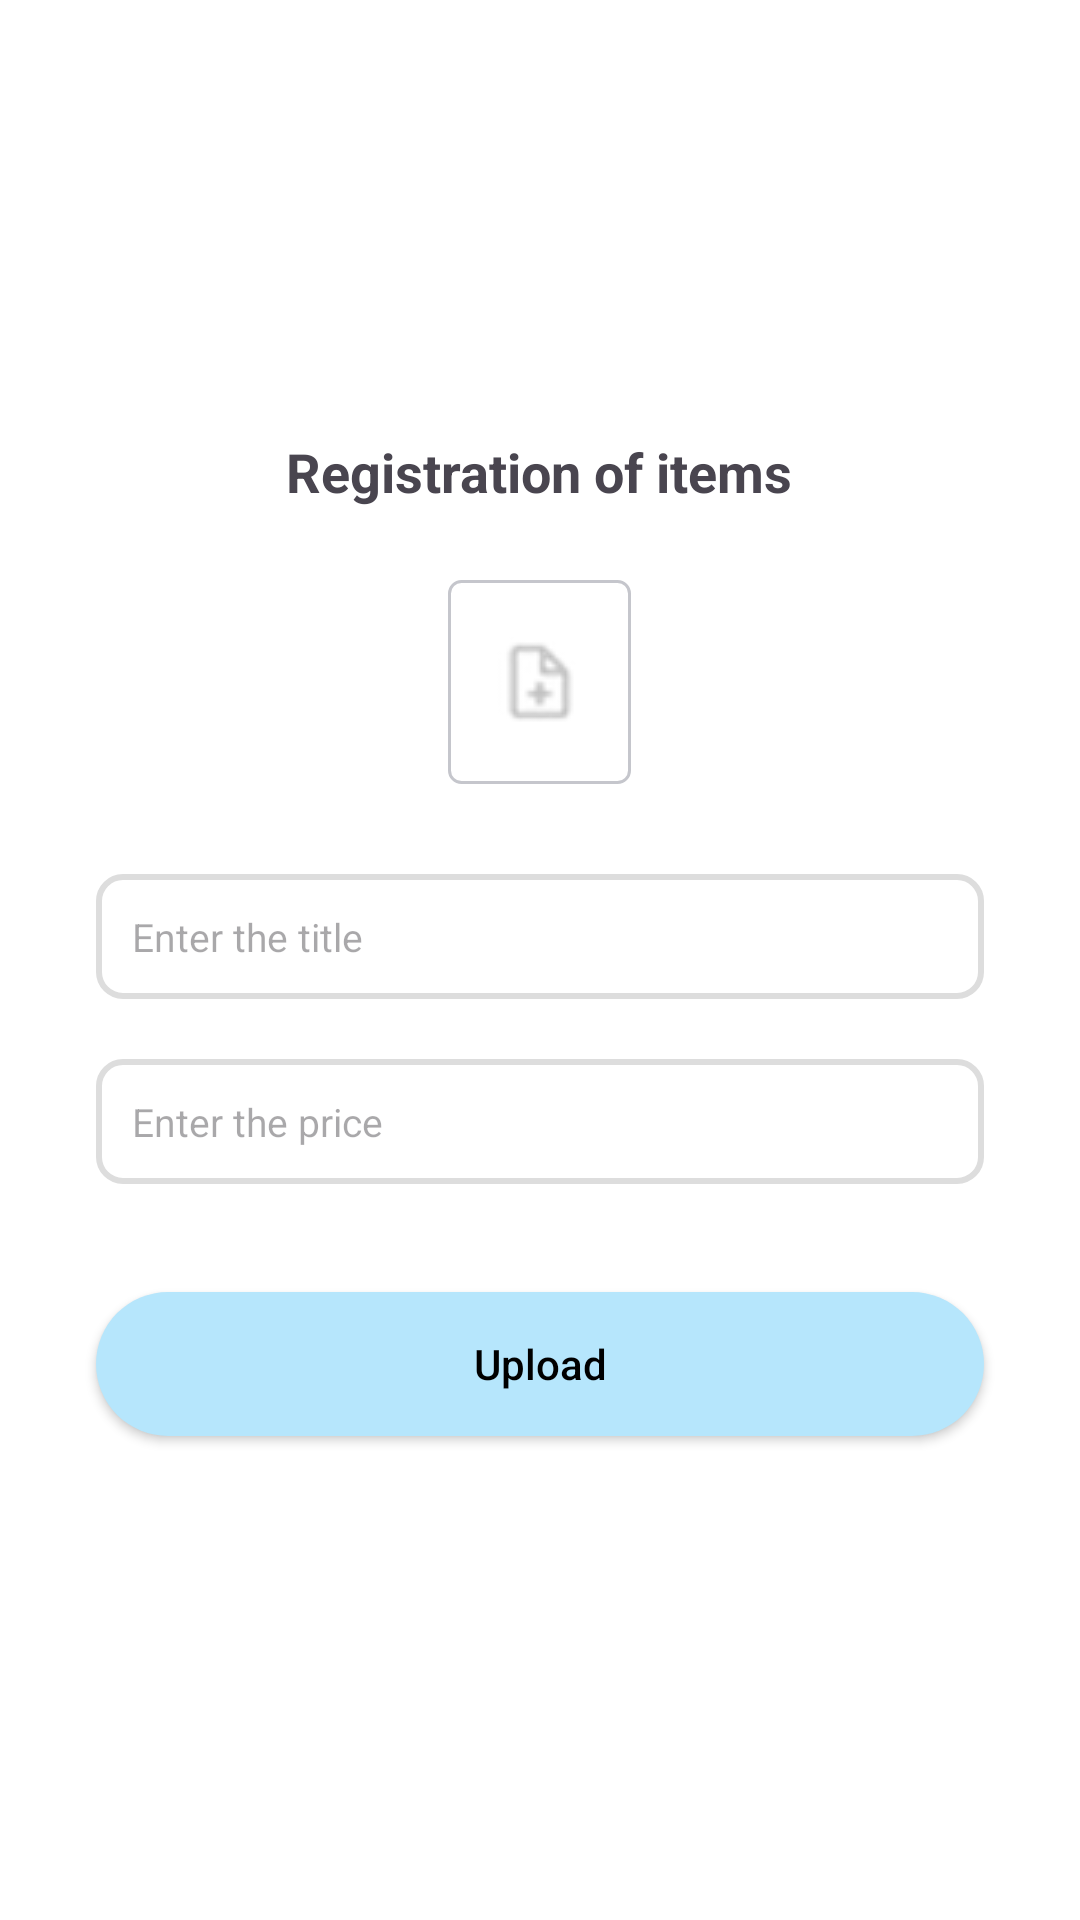

Icons on this 1080*1920 Android screen, each with its box as bbox=(x1, y1, x2, y2):
fileupload: bbox=(448, 580, 631, 784)
